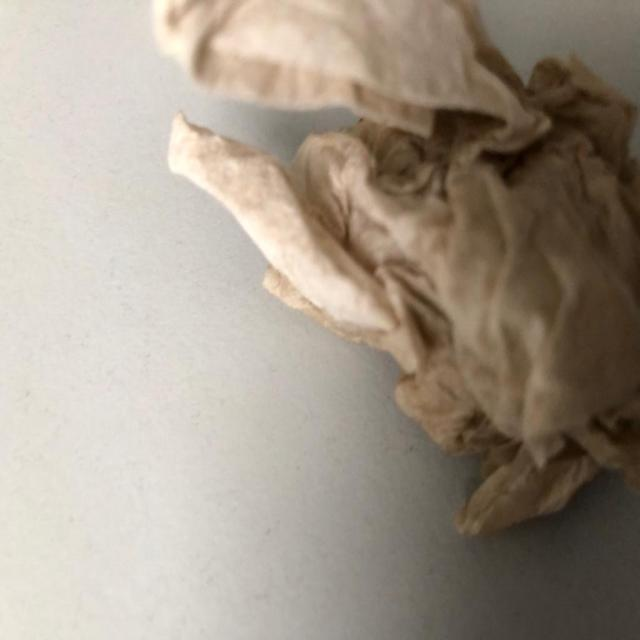kitchen paper: (153, 0, 640, 547)
